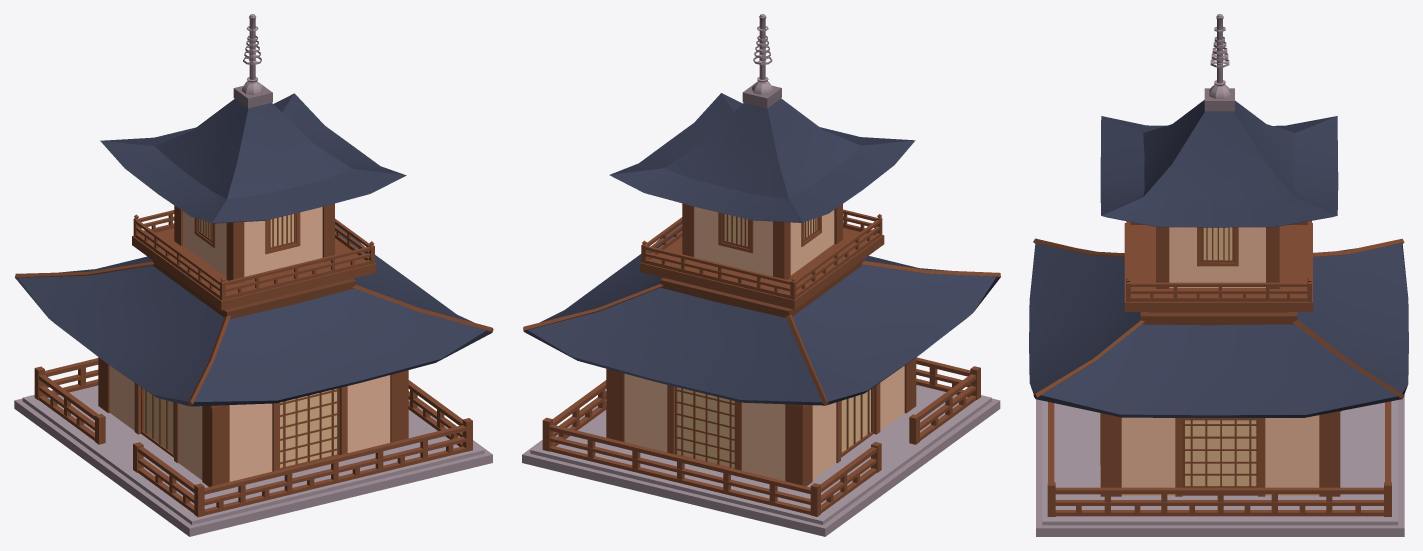
The model's file is houme07_1.fbx.
3 renders of one model, left to right at view 1: azimuth 30°, elevation 25°; view 2: azimuth 150°, elevation 25°; view 3: azimuth 270°, elevation 25°, orthographic. The views are drawn at different scales.
Visible parts, largest first — view 1: houme_007_1_1, foundation_7_1_1, fence_7_1_1, fence_7_2_1; view 2: houme_007_1_1, foundation_7_1_1, fence_7_1_1, fence_7_2_1; view 3: houme_007_1_1, foundation_7_1_1, fence_7_1_1, fence_7_2_1.
Boxes of the visible parts, box(x1,y1,x2,y2) form: houme_007_1_1: box(15, 14, 493, 486); foundation_7_1_1: box(14, 385, 492, 536); fence_7_1_1: box(34, 358, 472, 517); fence_7_2_1: box(133, 210, 374, 300); houme_007_1_1: box(523, 14, 1000, 486); foundation_7_1_1: box(522, 385, 1000, 536); fence_7_1_1: box(542, 357, 980, 516); fence_7_2_1: box(641, 209, 882, 299); houme_007_1_1: box(1029, 14, 1408, 496); foundation_7_1_1: box(1036, 394, 1404, 536); fence_7_1_1: box(1047, 401, 1391, 516); fence_7_2_1: box(1126, 221, 1311, 301).
Size of the model in its own units: 1377 by 1776 by 1377.
